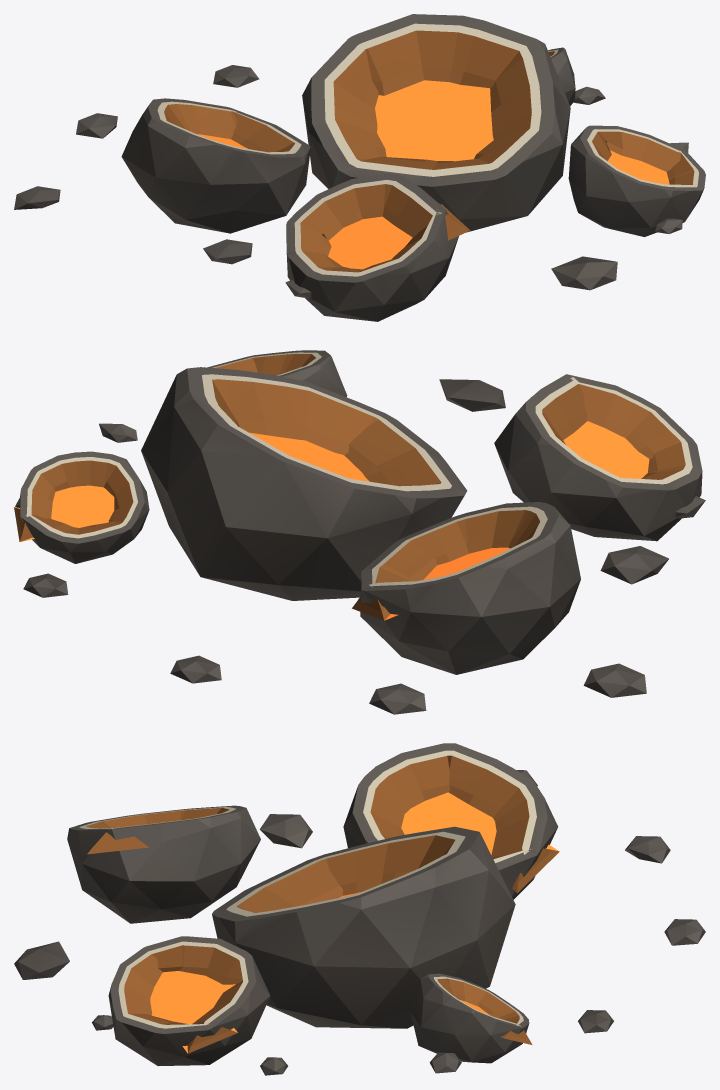
File: minerai_1.glb
3 renders of one model, top to bottom at view 1: azimuth 30°, elevation 25°; view 2: azimuth 150°, elevation 25°; view 3: azimuth 270°, elevation 25°, orthographic. The views are drawn at different scales.
Parts seen in each view (by area): view 1: minerai_1, geode_a, geode_b, geode_c; view 2: minerai_1, geode_a, geode_c, geode_b; view 3: minerai_1, geode_a, geode_b, geode_c.
Part boxes in pixels (x1=…): minerai_1: x1=14, y1=14, x2=688, y2=298; geode_a: x1=286, y1=173, x2=470, y2=321; geode_b: x1=568, y1=125, x2=705, y2=236; geode_c: x1=548, y1=47, x2=575, y2=106; minerai_1: x1=15, y1=367, x2=705, y2=714; geode_a: x1=494, y1=374, x2=702, y2=541; geode_c: x1=14, y1=451, x2=149, y2=563; geode_b: x1=207, y1=350, x2=347, y2=397; minerai_1: x1=14, y1=743, x2=705, y2=1075; geode_a: x1=67, y1=805, x2=260, y2=923; geode_b: x1=108, y1=936, x2=270, y2=1066; geode_c: x1=410, y1=973, x2=532, y2=1063.
Size of the model in its own units: 1.63 by 0.4556 by 1.56.
